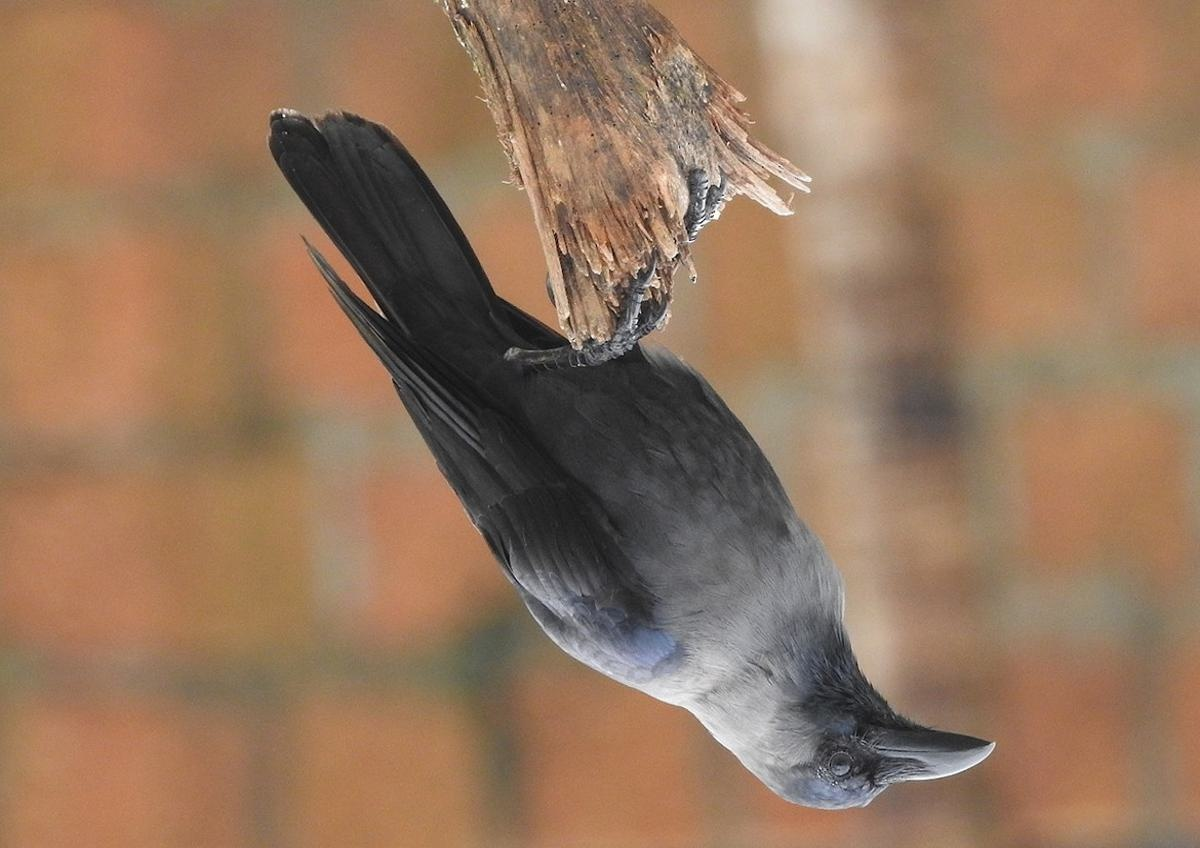crow: (239, 97, 997, 818)
